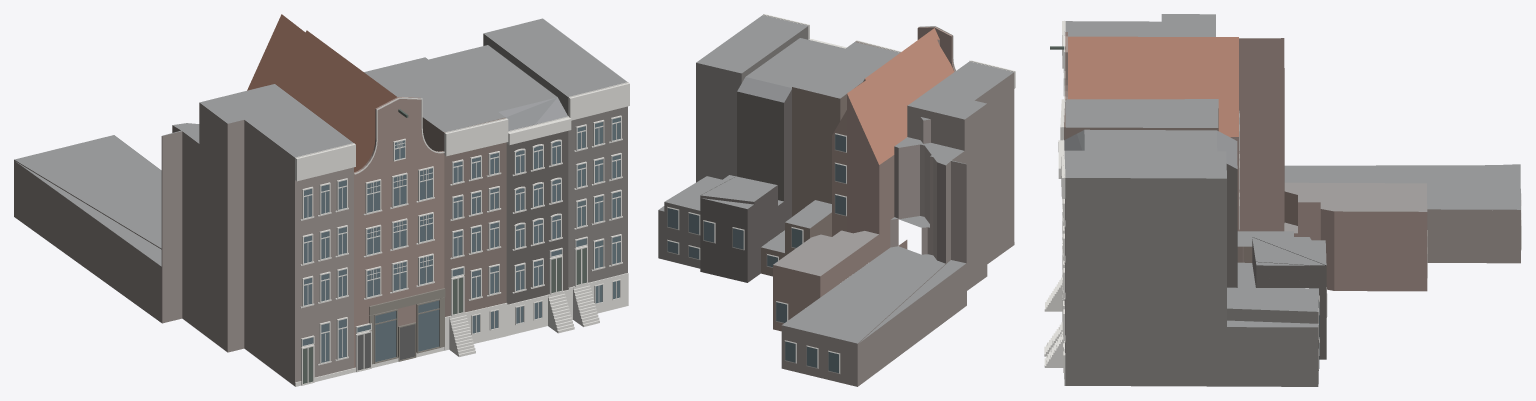
The model's file is chunk-face-bloemgracht-90-128-h1.glb.
The picture shows the model from 3 angles, left to right: view 1: azimuth 30°, elevation 25°; view 2: azimuth 150°, elevation 25°; view 3: azimuth 270°, elevation 25°; orthographic projection. The views are drawn at different scales.
Parts seen in each view (by area): view 1: face-bloemgracht-90-128-h1; view 2: face-bloemgracht-90-128-h1; view 3: face-bloemgracht-90-128-h1.
Boxes of the visible parts, x1,y1,x2,y2 form: face-bloemgracht-90-128-h1: [14, 14, 629, 386]; face-bloemgracht-90-128-h1: [658, 14, 1015, 386]; face-bloemgracht-90-128-h1: [1044, 14, 1521, 386].
Size of the model in its own units: 28.04 by 18.99 by 33.39.
